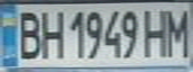1: (63, 7, 84, 60)
4: (103, 7, 124, 58)
9: (81, 7, 106, 58), (118, 7, 142, 58)
B: (12, 7, 45, 61)
H: (139, 6, 175, 58), (36, 7, 66, 60)
M: (163, 4, 193, 58)
